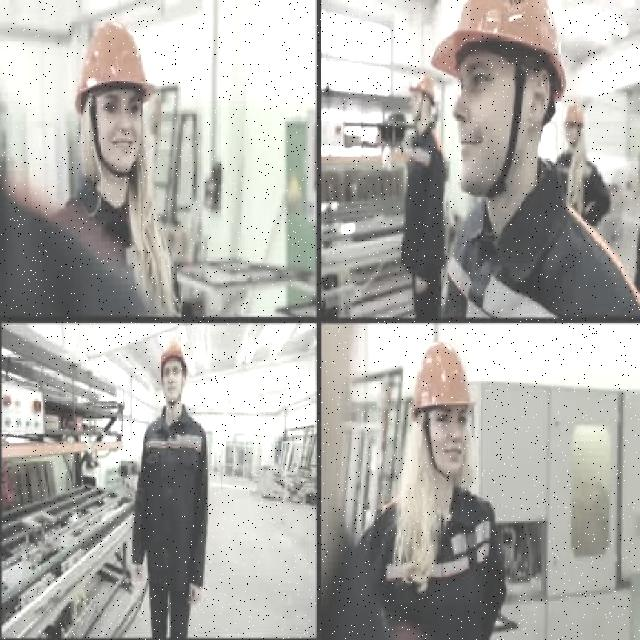Helmet: (432, 0, 568, 105), (74, 19, 156, 116), (411, 340, 480, 420), (160, 340, 188, 374), (410, 73, 438, 102), (564, 102, 586, 126)
Mask: (444, 150, 638, 344), (354, 479, 509, 638), (129, 402, 211, 638), (397, 120, 452, 320)
